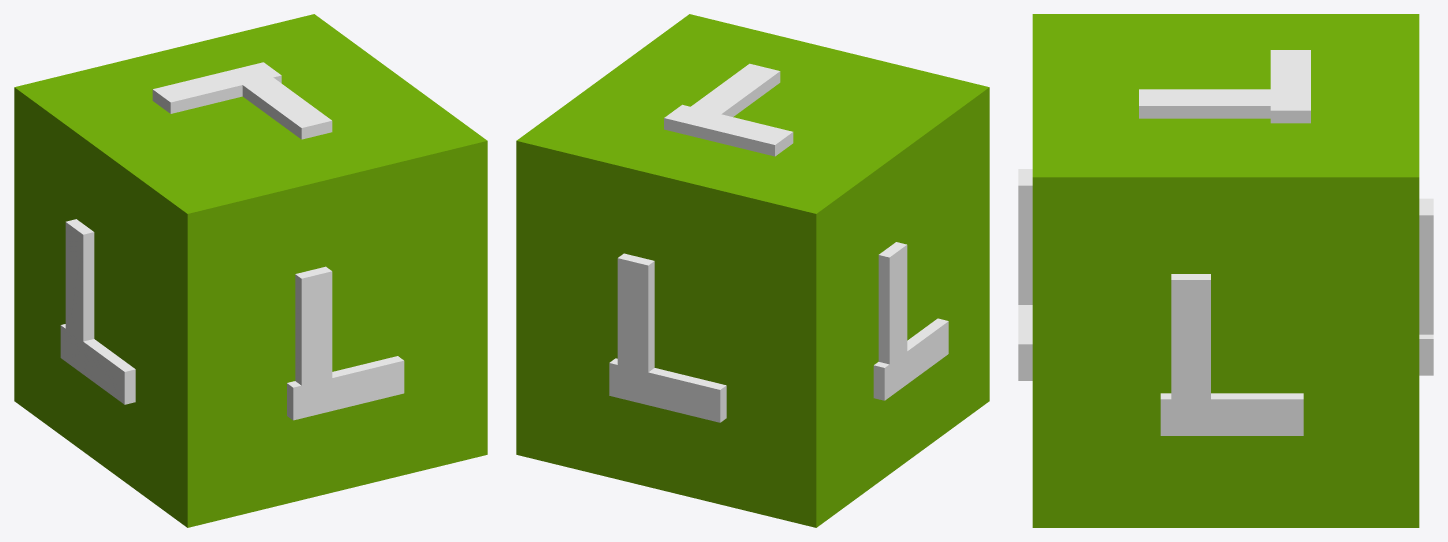
The model's file is DISTRACTOR_4.glb.
3 views of the same model, side by side, from view 1: azimuth 30°, elevation 25°; view 2: azimuth 150°, elevation 25°; view 3: azimuth 270°, elevation 25° (orthographic). The views are drawn at different scales.
Parts seen in each view (by area): view 1: DISTRACTOR_HIGH_4; view 2: DISTRACTOR_HIGH_4; view 3: DISTRACTOR_HIGH_4.
Part boxes in pixels (x1,y1,x2,y2): DISTRACTOR_HIGH_4: (14, 14, 487, 527); DISTRACTOR_HIGH_4: (516, 14, 989, 527); DISTRACTOR_HIGH_4: (1018, 14, 1433, 527).
Size of the model in its own units: 2.15 by 2.15 by 2.15.
